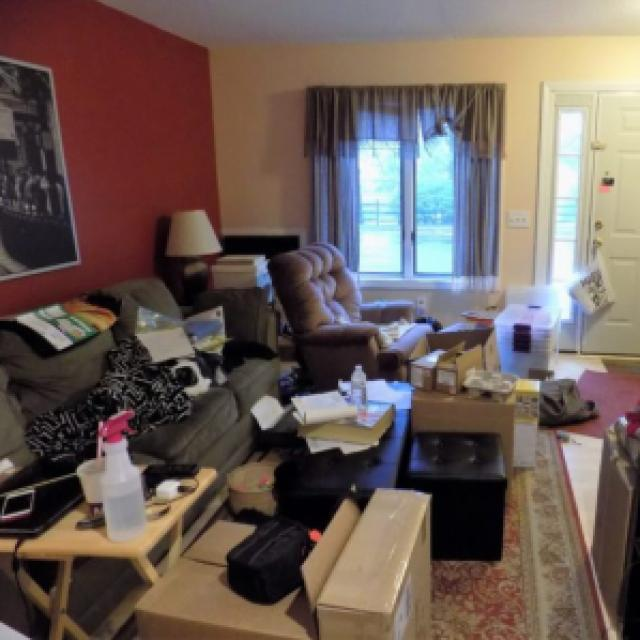mess: (6, 286, 265, 484), (2, 439, 202, 564), (296, 369, 410, 523), (515, 340, 640, 442), (316, 285, 431, 364)
